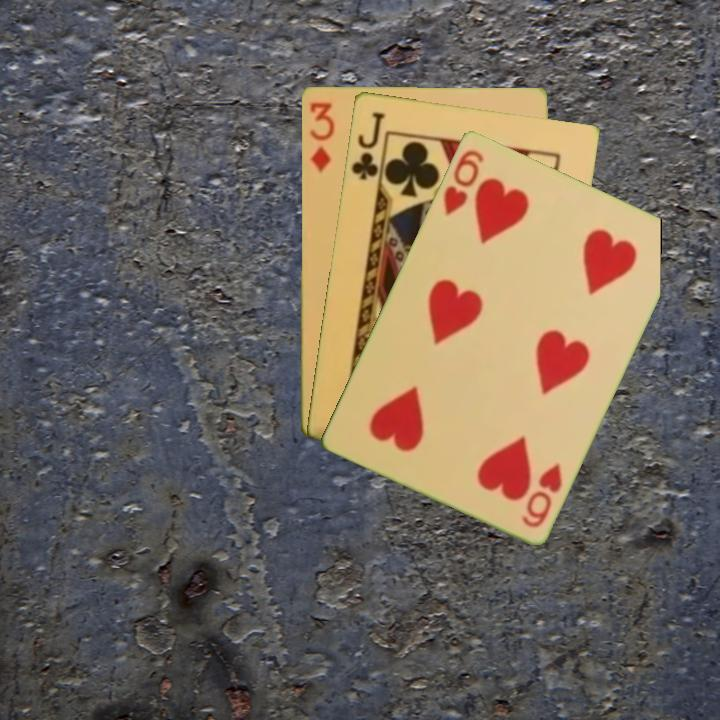3d: (305, 99, 336, 175)
6h: (439, 145, 487, 218), (517, 459, 565, 530)
Jc: (348, 108, 388, 182)
